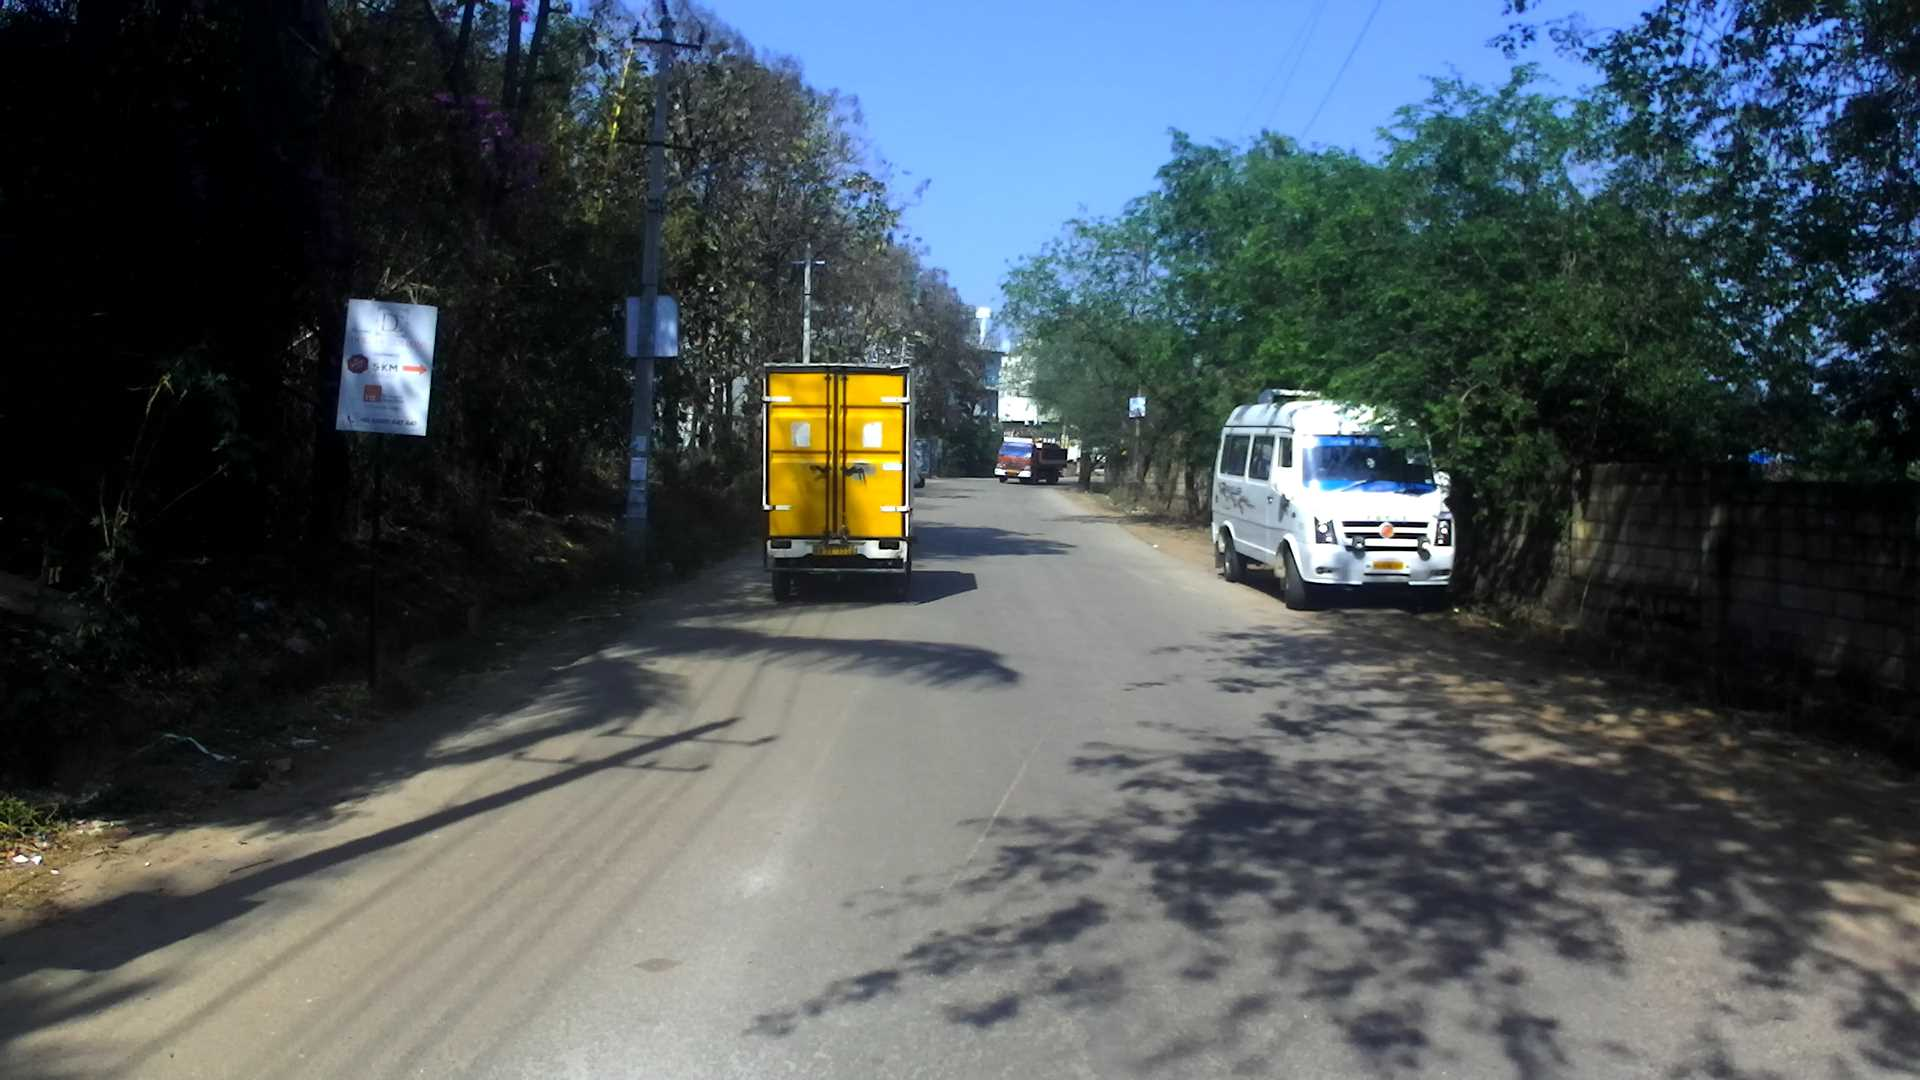car: (1191, 375, 1523, 630)
truck: (746, 352, 930, 605), (989, 421, 1082, 498)
